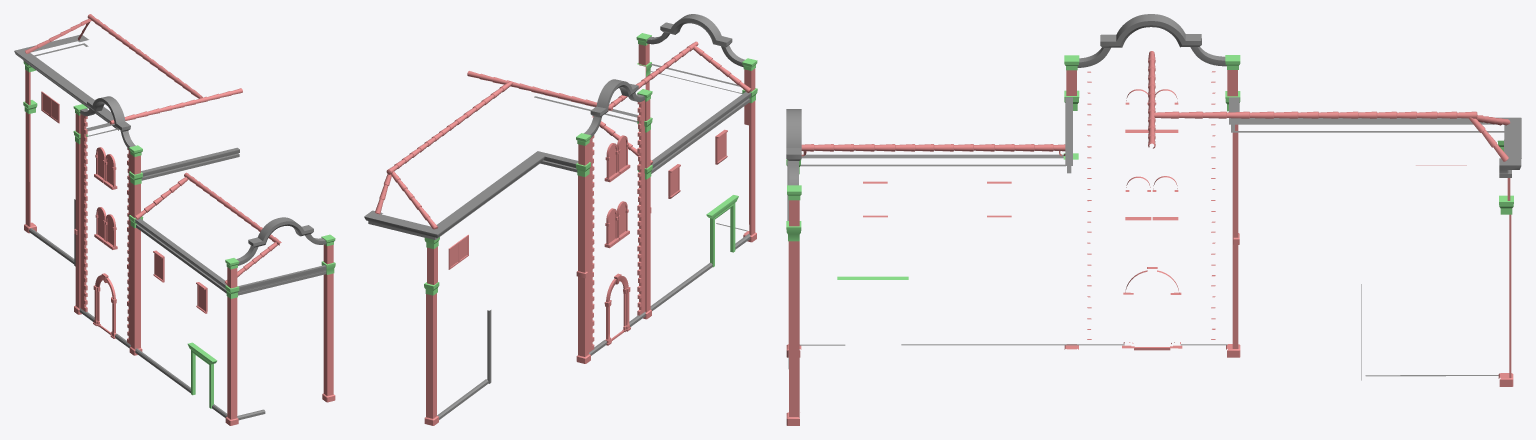
File: S_Envi_Fyz_BuildingMerge_06a.gltf
3 renders of one model, left to right at view 1: azimuth 30°, elevation 25°; view 2: azimuth 150°, elevation 25°; view 3: azimuth 270°, elevation 25°, orthographic. The views are drawn at different scales.
Parts seen in each view (by area): view 1: S_Envi_Fyz_BuildingMerge_06a; view 2: S_Envi_Fyz_BuildingMerge_06a; view 3: S_Envi_Fyz_BuildingMerge_06a.
Part boxes in pixels (left/top/right/bottom): S_Envi_Fyz_BuildingMerge_06a: left=14, top=14, right=335, bottom=425; S_Envi_Fyz_BuildingMerge_06a: left=364, top=14, right=757, bottom=425; S_Envi_Fyz_BuildingMerge_06a: left=786, top=14, right=1521, bottom=425.
Size of the model in its own units: 10.92 by 17.58 by 34.66.
